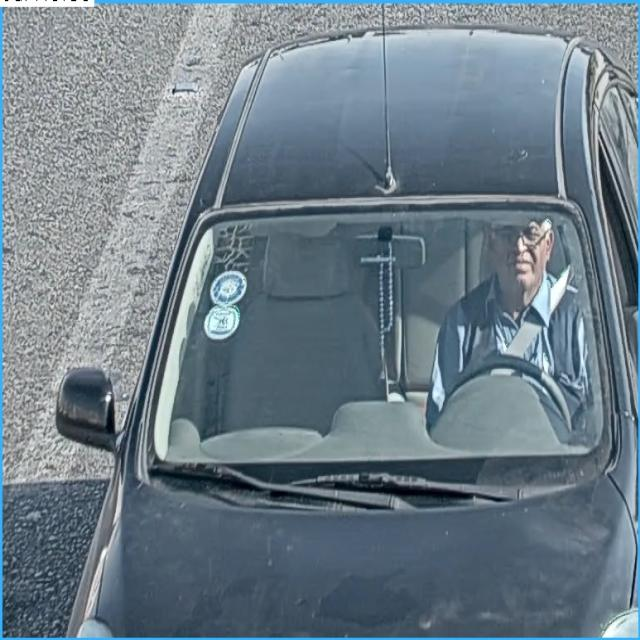windshield: (151, 211, 615, 462)
